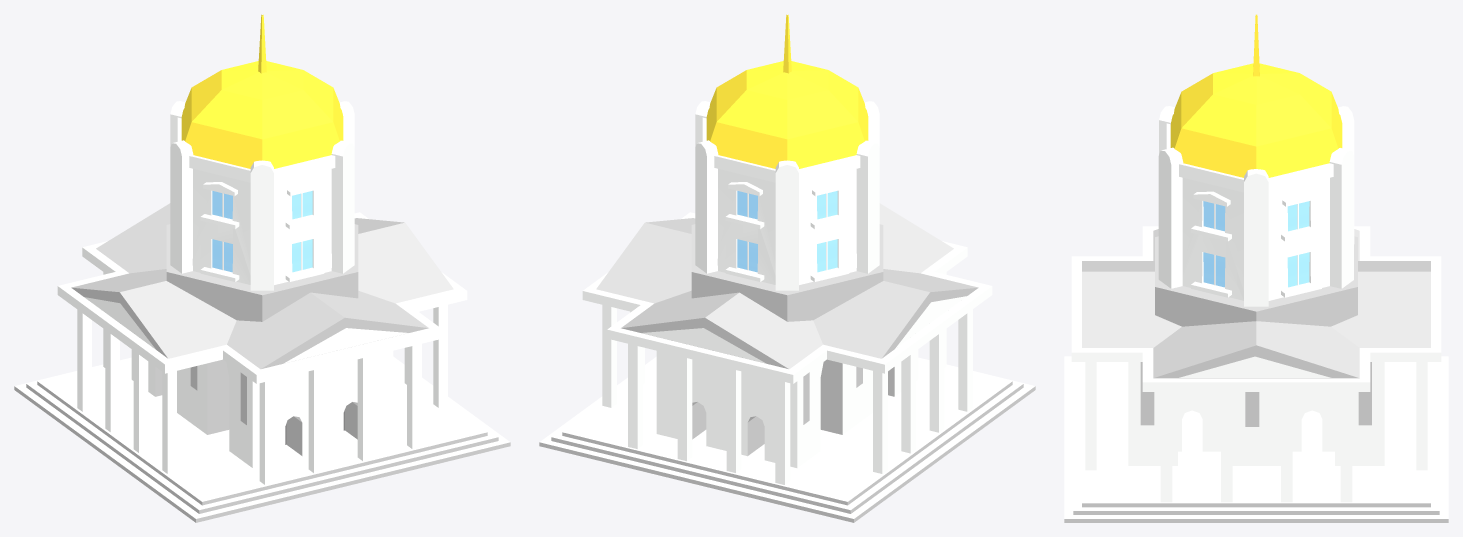
The model's file is temple.001.glb.
3 views of the same model, side by side, from view 1: azimuth 30°, elevation 25°; view 2: azimuth 150°, elevation 25°; view 3: azimuth 270°, elevation 25° (orthographic). The views are drawn at different scales.
Parts seen in each view (by area): view 1: temple.001(Clone); view 2: temple.001(Clone); view 3: temple.001(Clone).
Part boxes in pixels (x1=…): temple.001(Clone): x1=14, y1=14, x2=510, y2=522; temple.001(Clone): x1=539, y1=14, x2=1035, y2=522; temple.001(Clone): x1=1064, y1=14, x2=1448, y2=522.
Size of the model in its own units: 15.05 by 18.75 by 15.05.
Materials: 1 (1 with a texture image).
